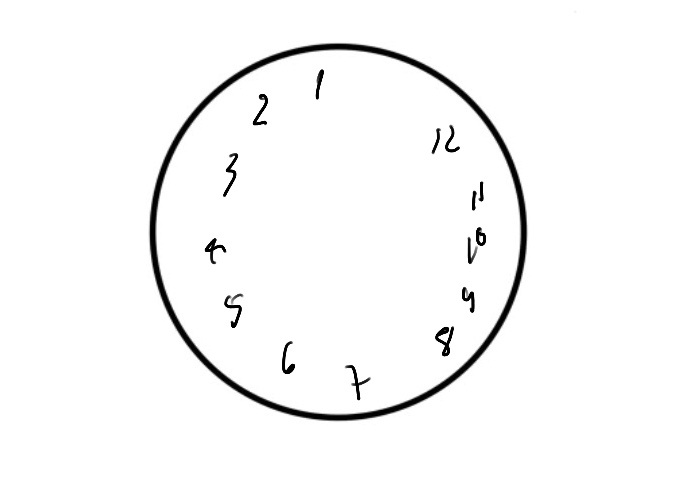eight: (428, 320, 458, 358)
eleven: (467, 176, 491, 216)
five: (217, 285, 252, 338)
four: (198, 233, 235, 273)
nine: (456, 279, 480, 314)
one: (313, 61, 326, 107)
seven: (344, 353, 372, 403)
six: (278, 337, 305, 387)
ten: (462, 226, 491, 266)
three: (217, 149, 241, 199)
twelve: (427, 121, 464, 157)
two: (246, 89, 276, 131)
